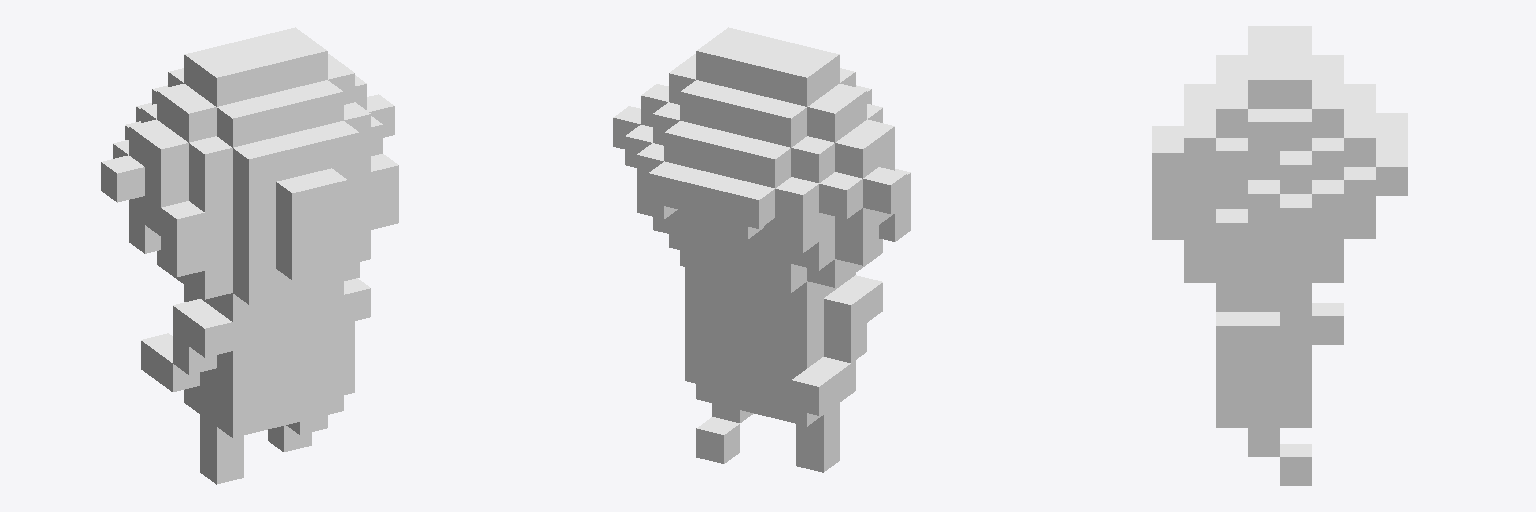
File: BackWalk2.obj
3 views of the same model, side by side, from view 1: azimuth 30°, elevation 25°; view 2: azimuth 150°, elevation 25°; view 3: azimuth 270°, elevation 25° (orthographic).
Parts seen in each view (by area): view 1: BackWalk2; view 2: BackWalk2; view 3: BackWalk2.
Part boxes in pixels (bbox=[...]): BackWalk2: bbox=[101, 27, 398, 484]; BackWalk2: bbox=[613, 27, 910, 472]; BackWalk2: bbox=[1152, 26, 1407, 485].
Bounding box in the file's own units: 10 × 14 × 8.